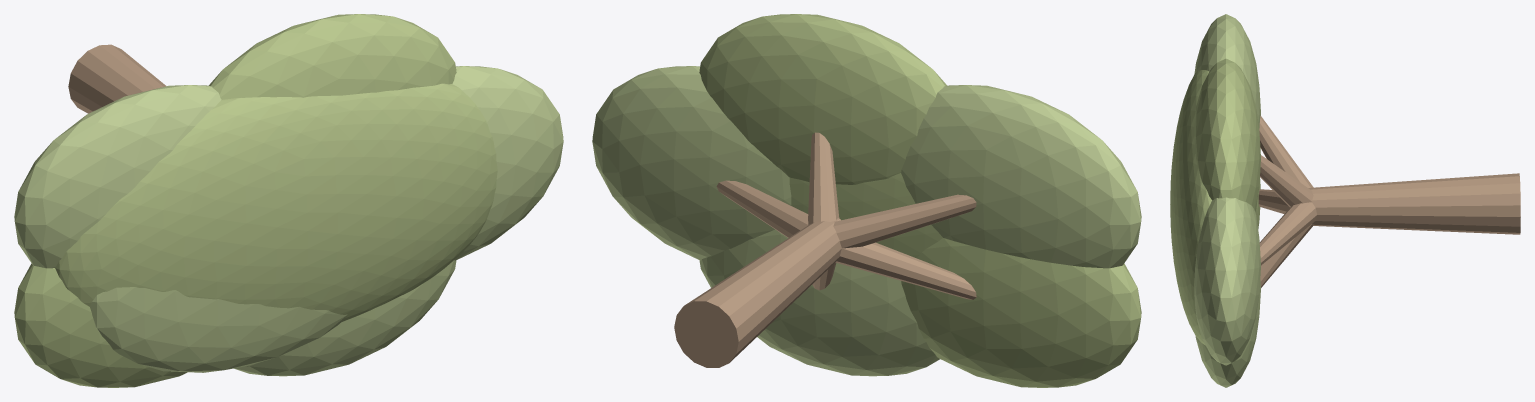
The model's file is acacia_large.glb.
3 views of the same model, side by side, from view 1: azimuth 30°, elevation 25°; view 2: azimuth 150°, elevation 25°; view 3: azimuth 270°, elevation 25° (orthographic). The views are drawn at different scales.
Parts seen in each view (by area): view 1: acacia_large_011, acacia_large_006, acacia_large_004, acacia_large_012, acacia_large_002, acacia_large_008, acacia_large_010, acacia_large_000; view 2: acacia_large_006, acacia_large_004, acacia_large_008, acacia_large_002, acacia_large_010, acacia_large_000, acacia_large_011, acacia_large_005, acacia_large_007, acacia_large_001, acacia_large_003; view 3: acacia_large_000, acacia_large_002, acacia_large_004, acacia_large_011, acacia_large_006, acacia_large_001, acacia_large_010, acacia_large_003, acacia_large_005, acacia_large_009, acacia_large_007.
Boxes of the visible parts, x1,y1,x2,y2 form: acacia_large_011: (55,83,497,321); acacia_large_006: (14,85,221,268); acacia_large_004: (209,14,456,99); acacia_large_012: (90,287,347,372); acacia_large_002: (452,66,563,260); acacia_large_008: (14,263,187,387); acacia_large_010: (234,260,456,376); acacia_large_000: (68,44,166,113); acacia_large_006: (901,85,1141,268); acacia_large_004: (699,14,946,184); acacia_large_008: (901,238,1141,387); acacia_large_002: (592,66,791,260); acacia_large_010: (699,229,939,376); acacia_large_000: (674,218,841,367); acacia_large_011: (789,173,942,258); acacia_large_005: (833,194,976,248); acacia_large_007: (835,242,976,299); acacia_large_001: (716,180,808,237); acacia_large_003: (808,132,839,224); acacia_large_000: (1308,173,1520,234); acacia_large_002: (1194,197,1260,365); acacia_large_004: (1194,58,1260,211); acacia_large_011: (1170,70,1256,345); acacia_large_006: (1194,14,1260,128); acacia_large_001: (1259,202,1316,265); acacia_large_010: (1195,280,1260,387); acacia_large_003: (1260,155,1313,207); acacia_large_005: (1259,116,1313,187); acacia_large_009: (1260,224,1313,287); acacia_large_007: (1258,189,1289,213).
Size of the model in its own units: 3.8 by 2.33 by 2.51.
